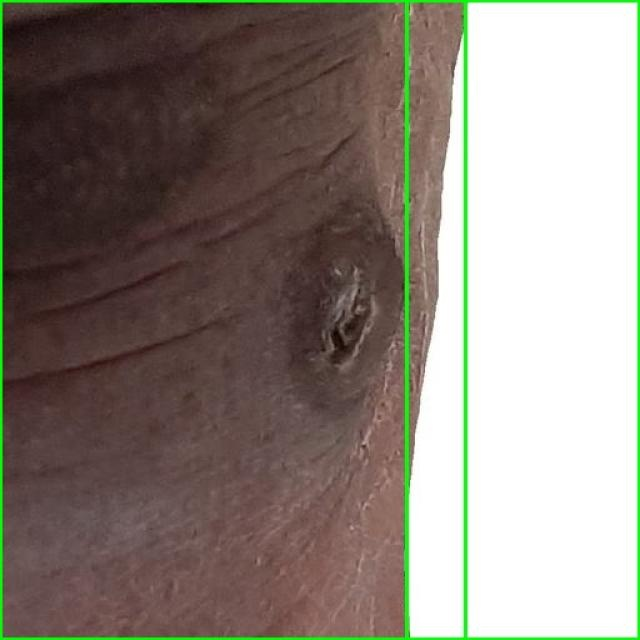Eczema: (0, 0, 465, 639), (406, 0, 639, 639)
